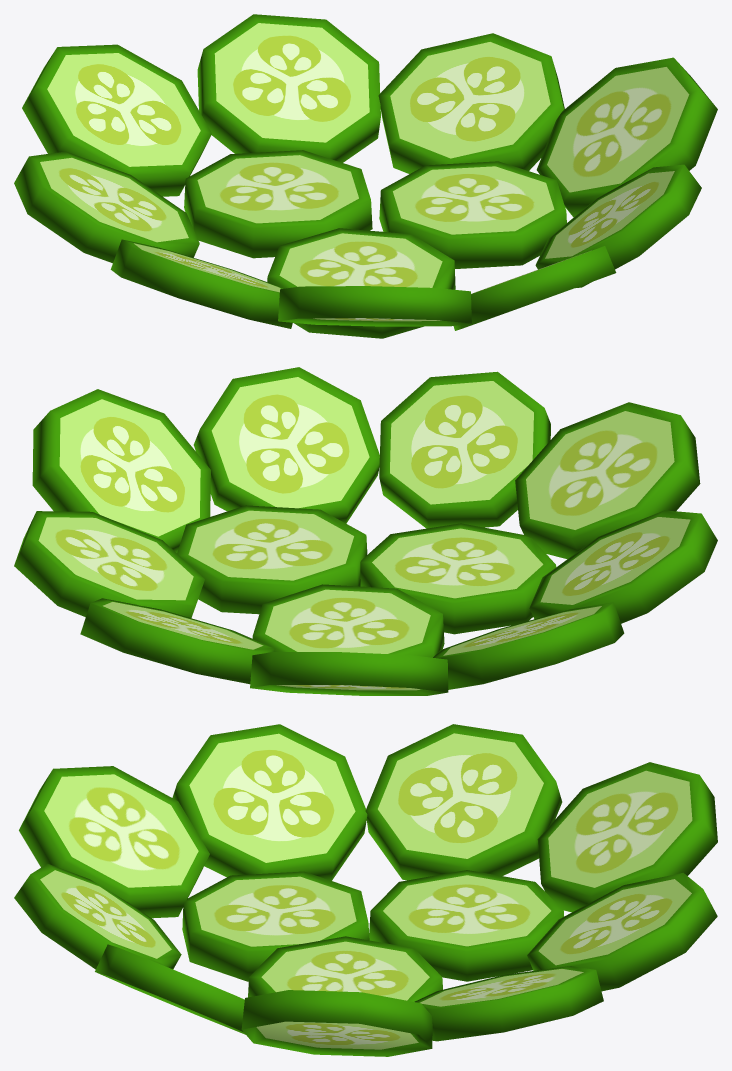
The model's file is SM_Cucumber_Plate.fbx.
3 renders of one model, top to bottom at view 1: azimuth 30°, elevation 25°; view 2: azimuth 150°, elevation 25°; view 3: azimuth 270°, elevation 25°, orthographic. The views are drawn at different scales.
Visible parts, largest first — view 1: Cucumber_Plate; view 2: Cucumber_Plate; view 3: Cucumber_Plate.
Part boxes in pixels (left/top/right/bottom): Cucumber_Plate: left=14, top=14, right=717, bottom=338; Cucumber_Plate: left=14, top=367, right=717, bottom=695; Cucumber_Plate: left=14, top=724, right=717, bottom=1056.
Bounding box in the file's own units: 125 × 24.15 × 123.
